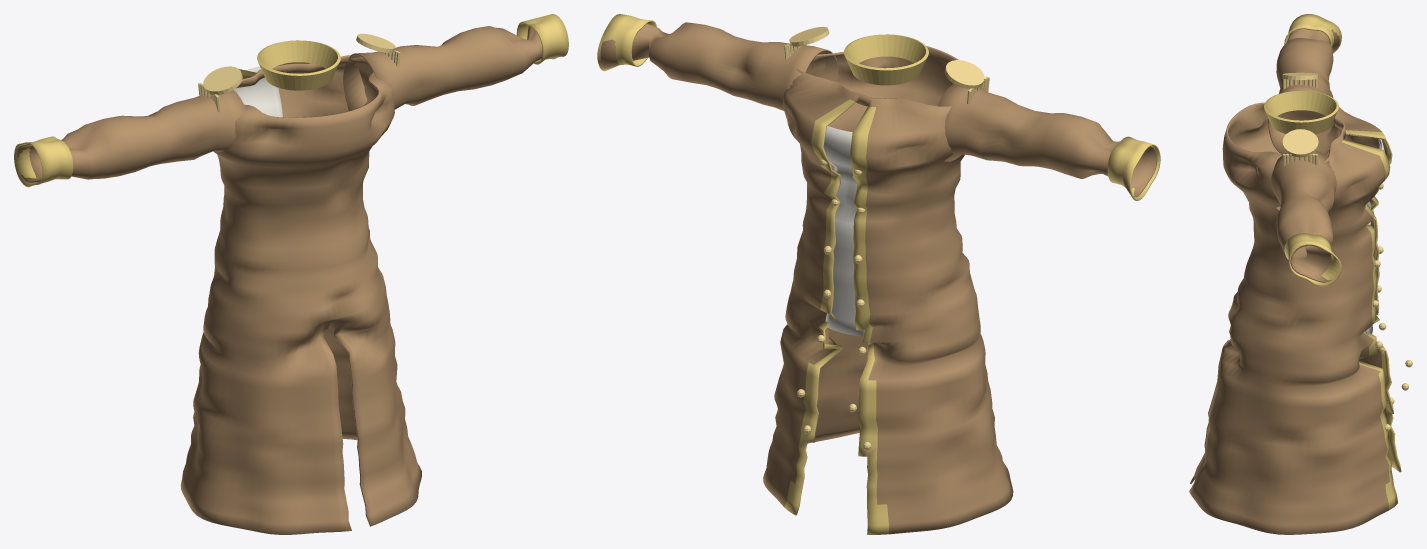
Rendered from gehrock.glb.
3 renders of one model, left to right at view 1: azimuth 30°, elevation 25°; view 2: azimuth 150°, elevation 25°; view 3: azimuth 270°, elevation 25°, orthographic. The views are drawn at different scales.
Visible parts, largest first — view 1: G_gehrock; view 2: G_gehrock; view 3: G_gehrock.
Boxes of the visible parts, box(x1,y1,x2,y2) form: G_gehrock: box(14, 14, 568, 534); G_gehrock: box(597, 14, 1160, 534); G_gehrock: box(1189, 14, 1412, 534).
Bounding box in the file's own units: 1.21 × 0.9459 × 0.4976.
